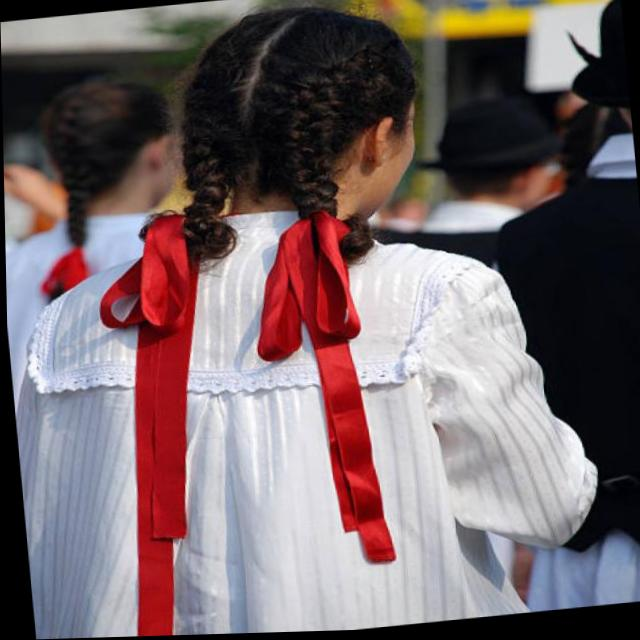no helmet: (183, 0, 426, 245)
